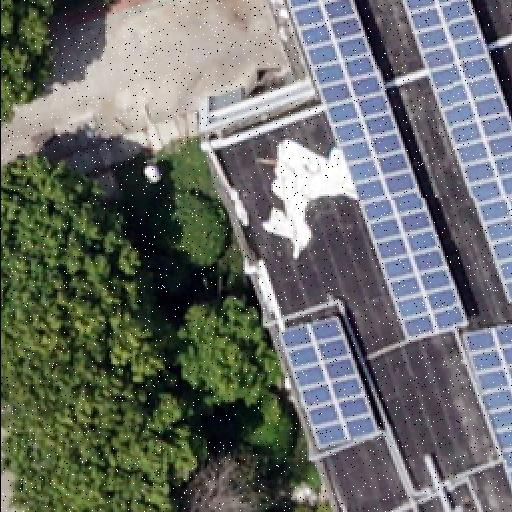solar-panel: (286, 1, 466, 343), (401, 0, 511, 304), (278, 316, 378, 448), (464, 325, 512, 491)
